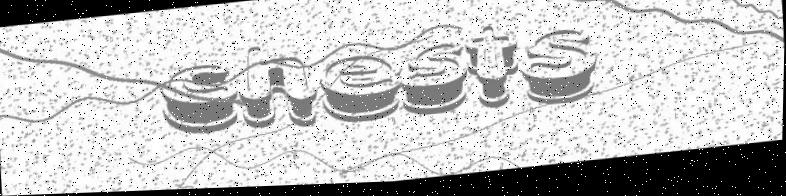c: (156, 62, 242, 138)
e: (317, 45, 405, 129)
h: (240, 37, 322, 136)
s: (515, 27, 603, 111), (399, 41, 473, 121)
t: (464, 21, 527, 115)
